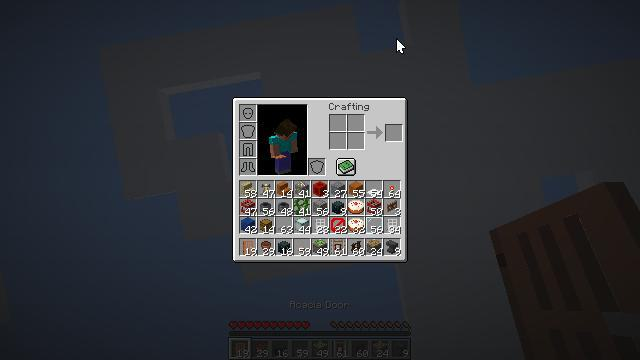cursor: (396, 38, 406, 54)
